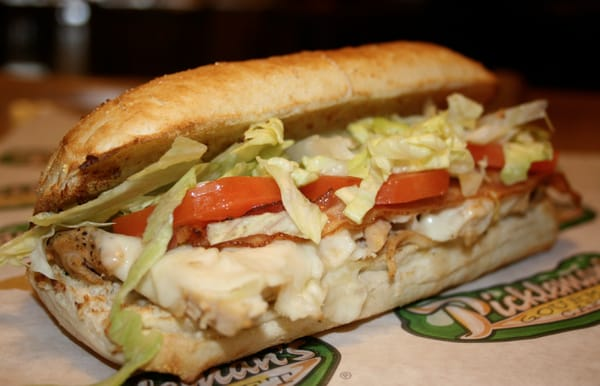soup: (12, 41, 594, 382)
